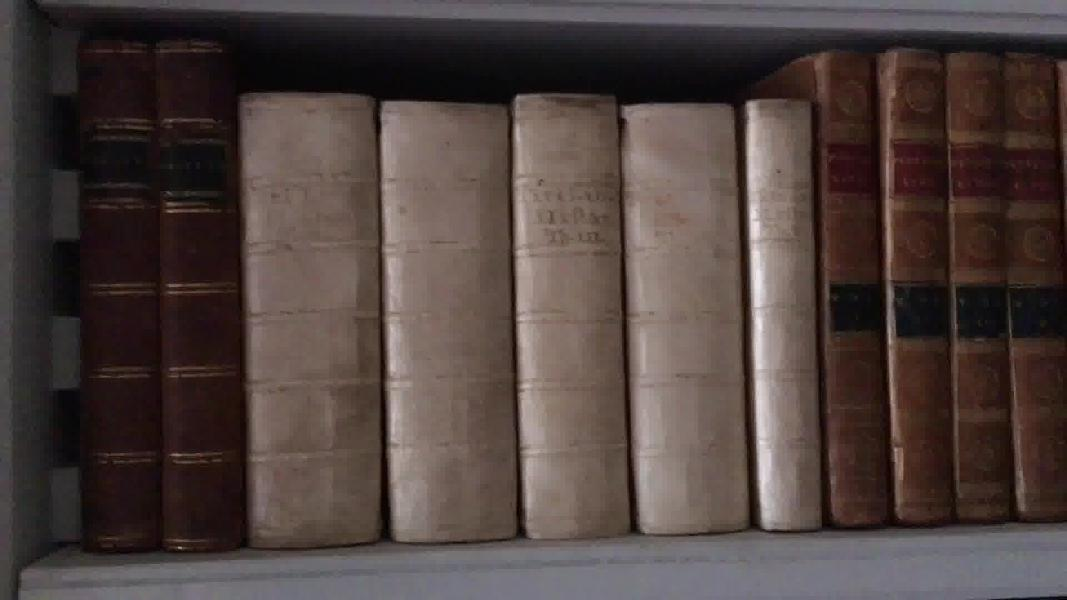Kk4-1_2: (71, 21, 255, 558)
Kk4-3_7: (220, 74, 835, 558)
Kk4-8_13: (804, 43, 1067, 527)
